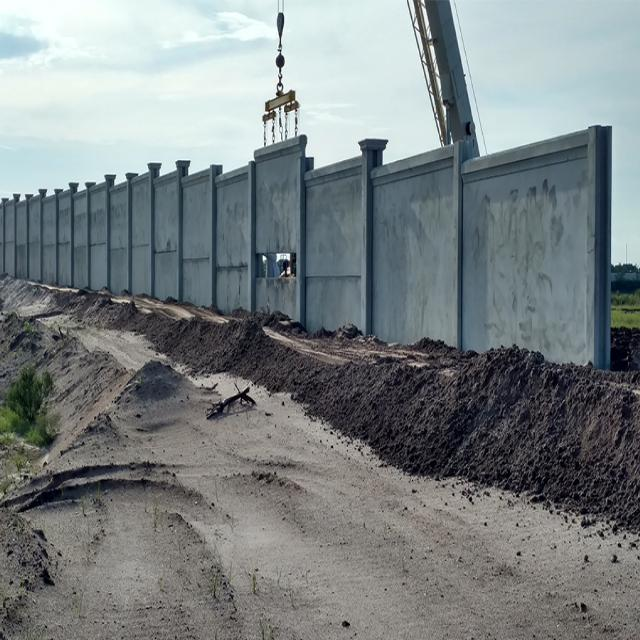Concrete: (8, 132, 619, 374)
